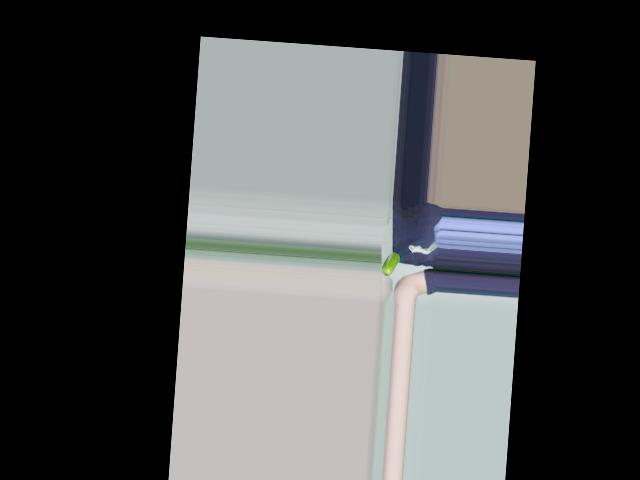cucumber: (380, 252, 400, 276)
